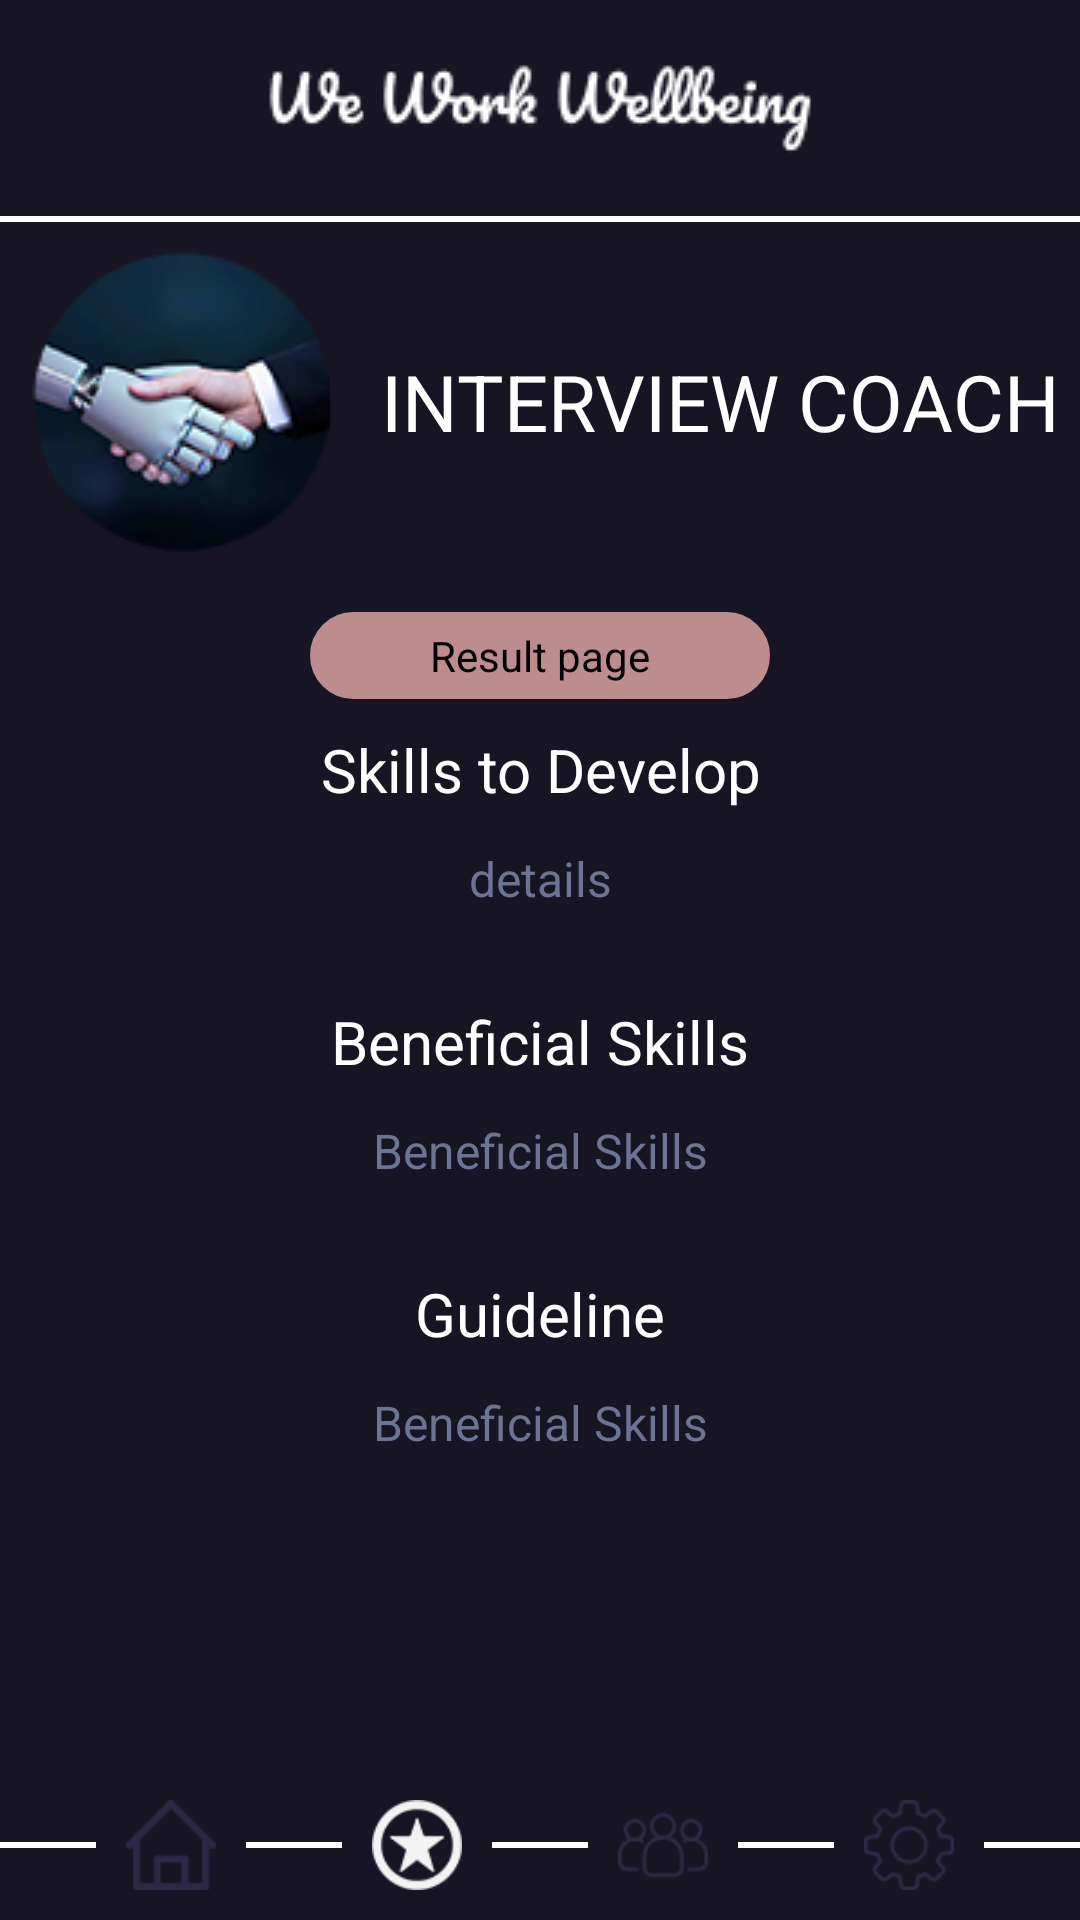

Where icons sit on this 1080px×1920px app screen, as region(x1, y1, x2, y2):
home: region(126, 1800, 216, 1890)
settings: region(864, 1800, 954, 1890)
star: region(372, 1800, 462, 1890)
team: region(618, 1814, 708, 1877)
